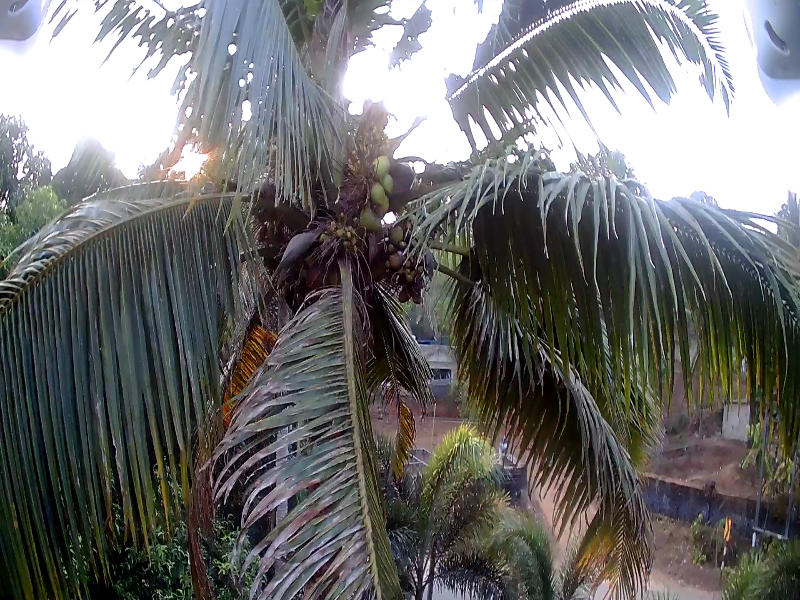coconut: (327, 223, 366, 253), (349, 201, 381, 229), (366, 180, 386, 207), (369, 154, 391, 178), (380, 173, 396, 196), (383, 251, 401, 267), (395, 226, 407, 246), (398, 271, 413, 283)
